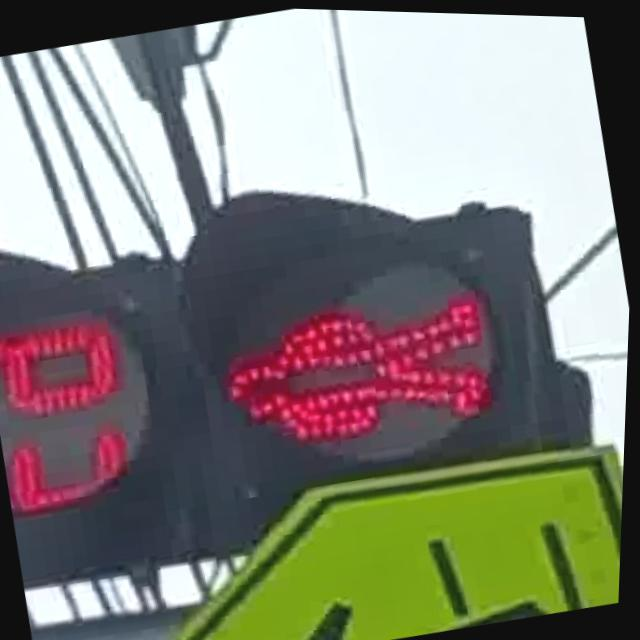red_light: (199, 240, 520, 484)
